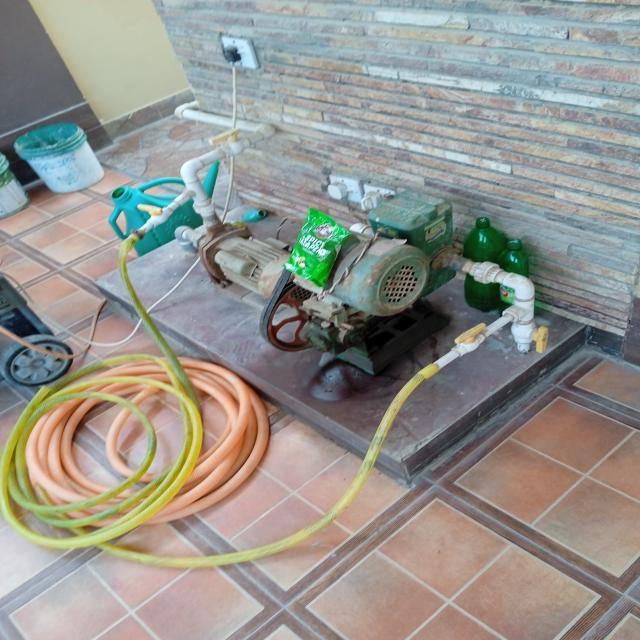Plastic: (292, 207, 361, 290)
